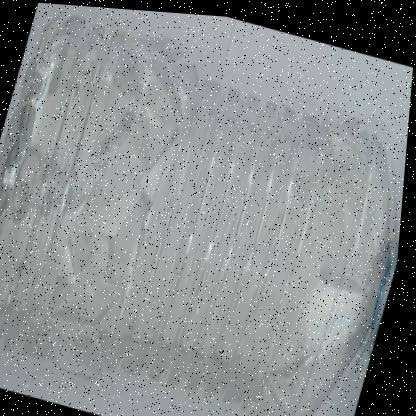open bottle: (279, 104, 411, 416)
